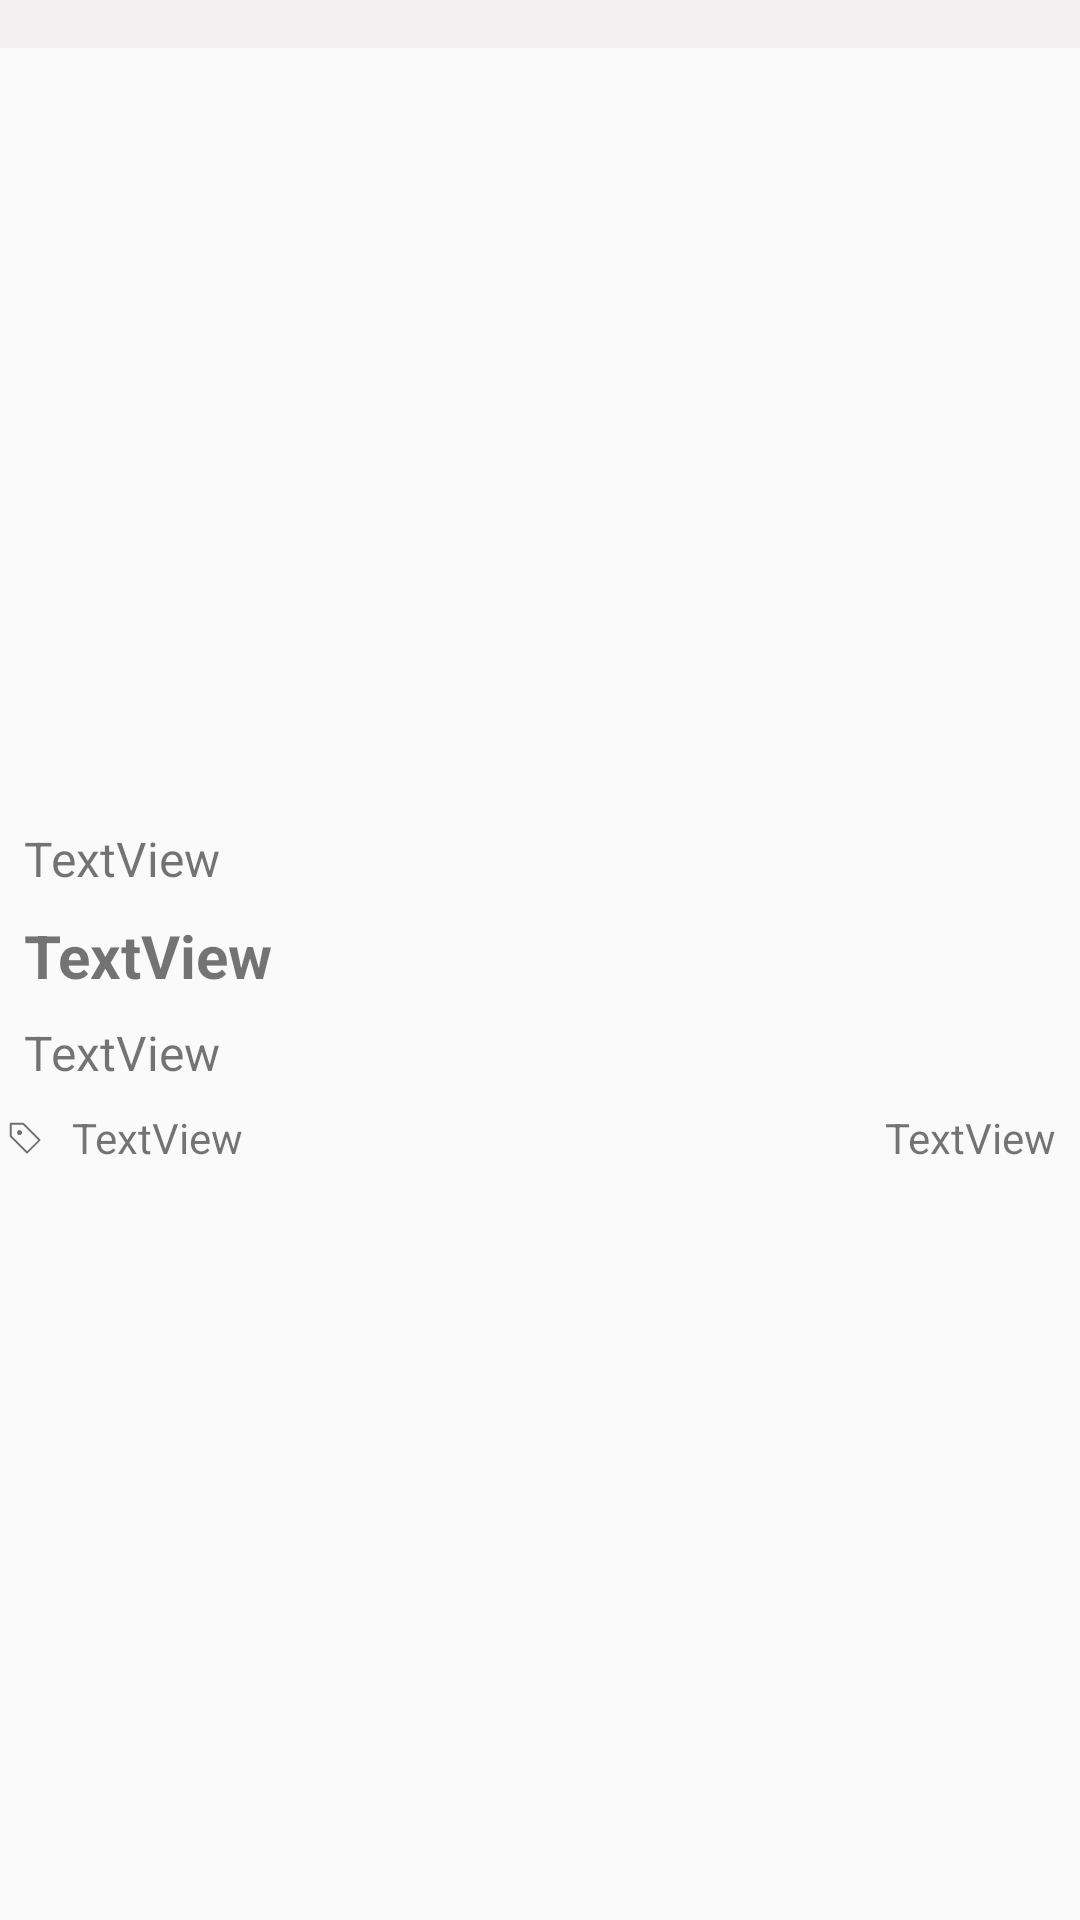

Where icons sit on this 1080*1920 app screen, as (x1, y1, x2, y2):
tag: (9, 1122, 41, 1154)
